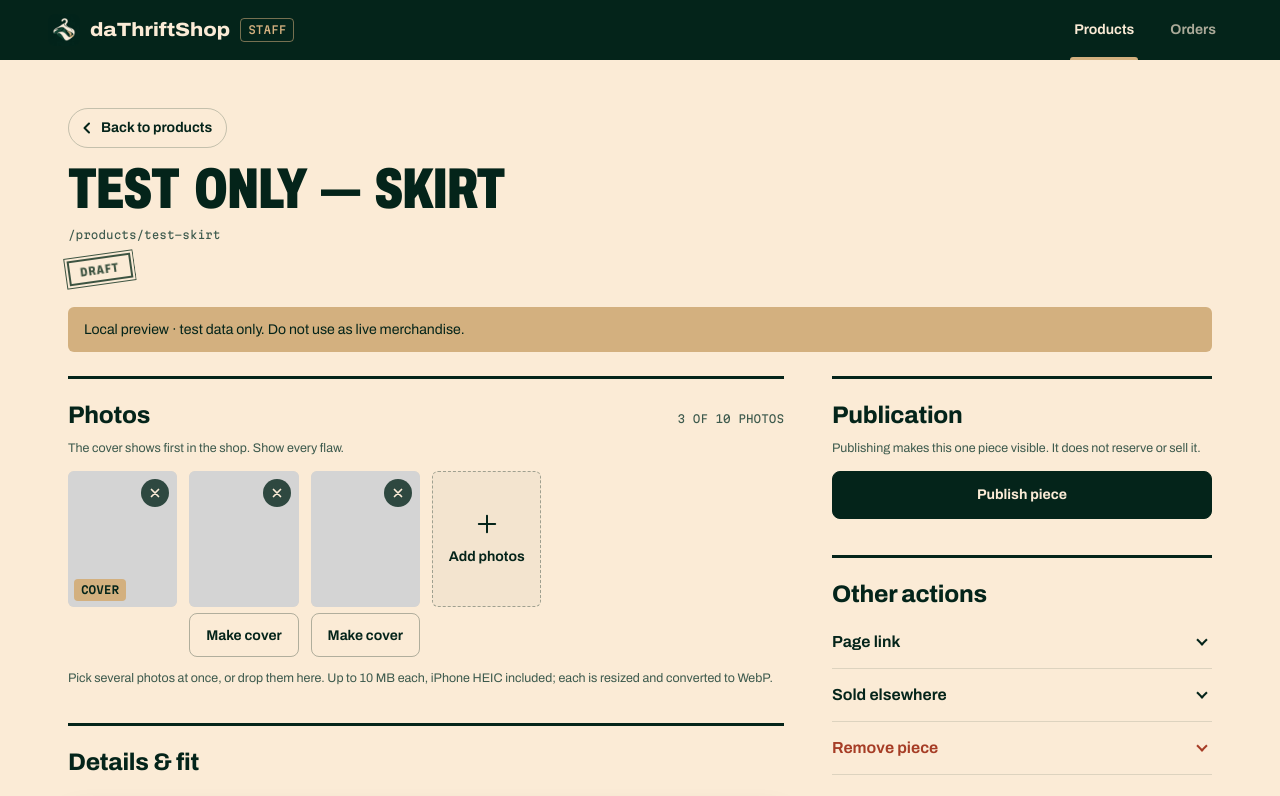
Test case: makes any photo the cover the shop shows first
Check: the text "Cover" is shown, box x1=74 y1=579 x2=126 y2=601
Step 1. Click the button with aria-label "Make photo 3 the cover" → {"x": 365, "y": 635}, box x1=311 y1=613 x2=420 y2=657
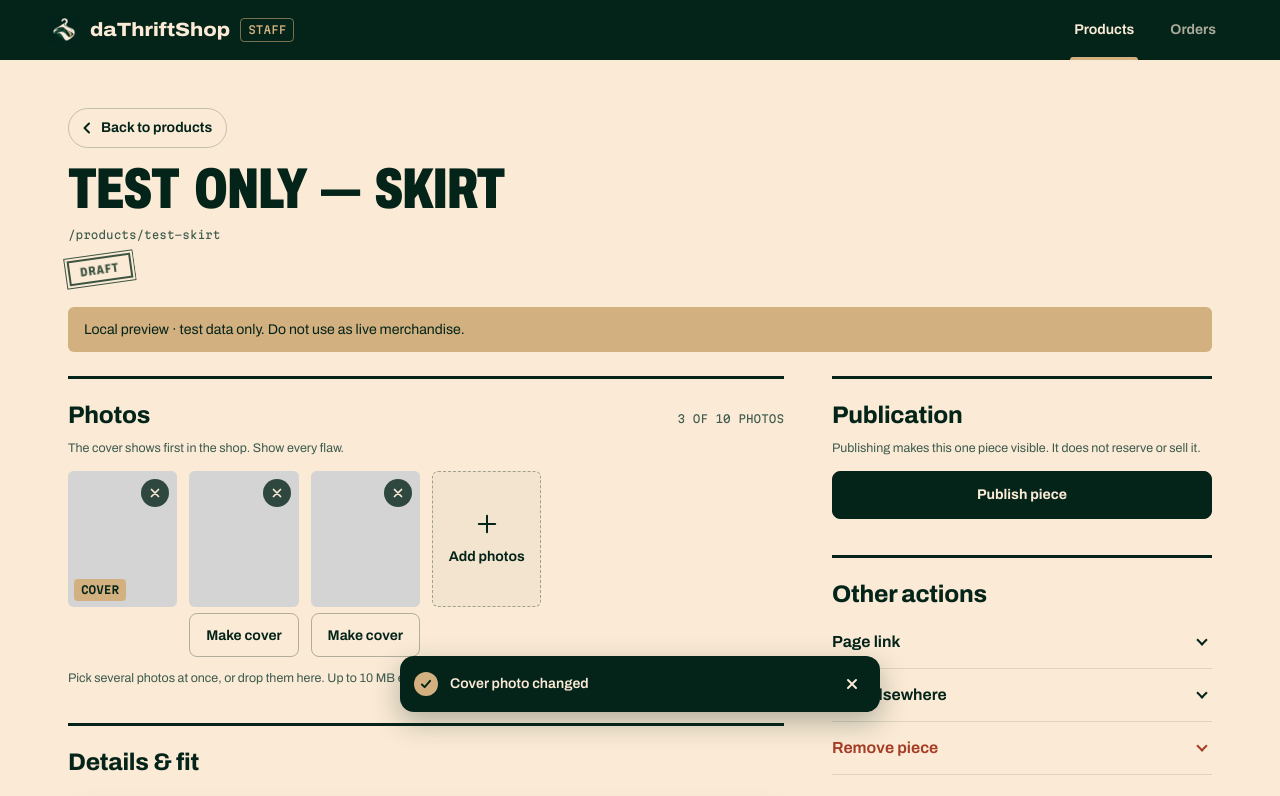
Check: the text "Cover photo changed" is shown, box x1=450 y1=676 x2=589 y2=691
